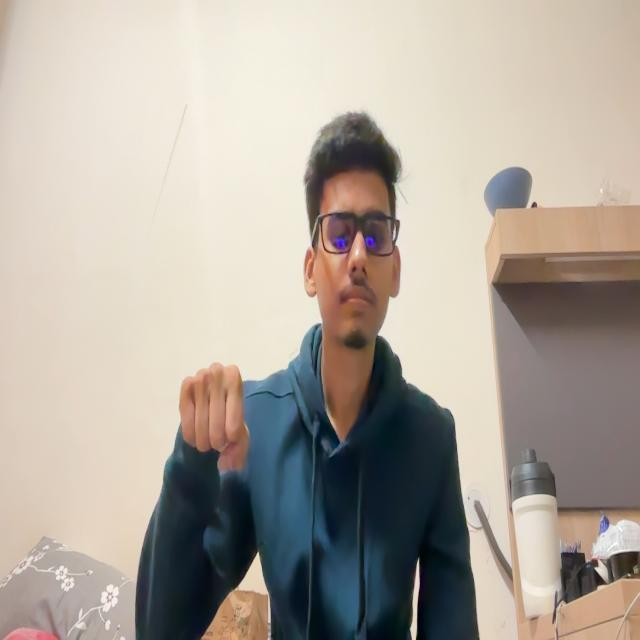Yes: (160, 333, 263, 482)
